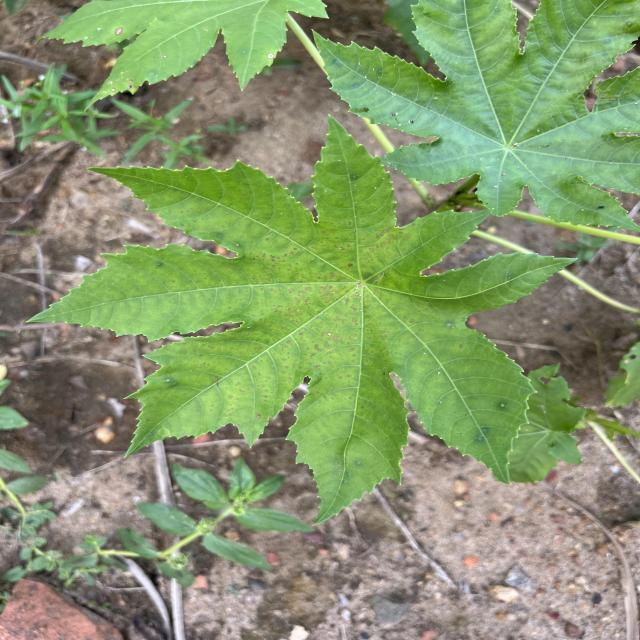Ricinus communis linn: (19, 108, 583, 528), (304, 0, 640, 235)
